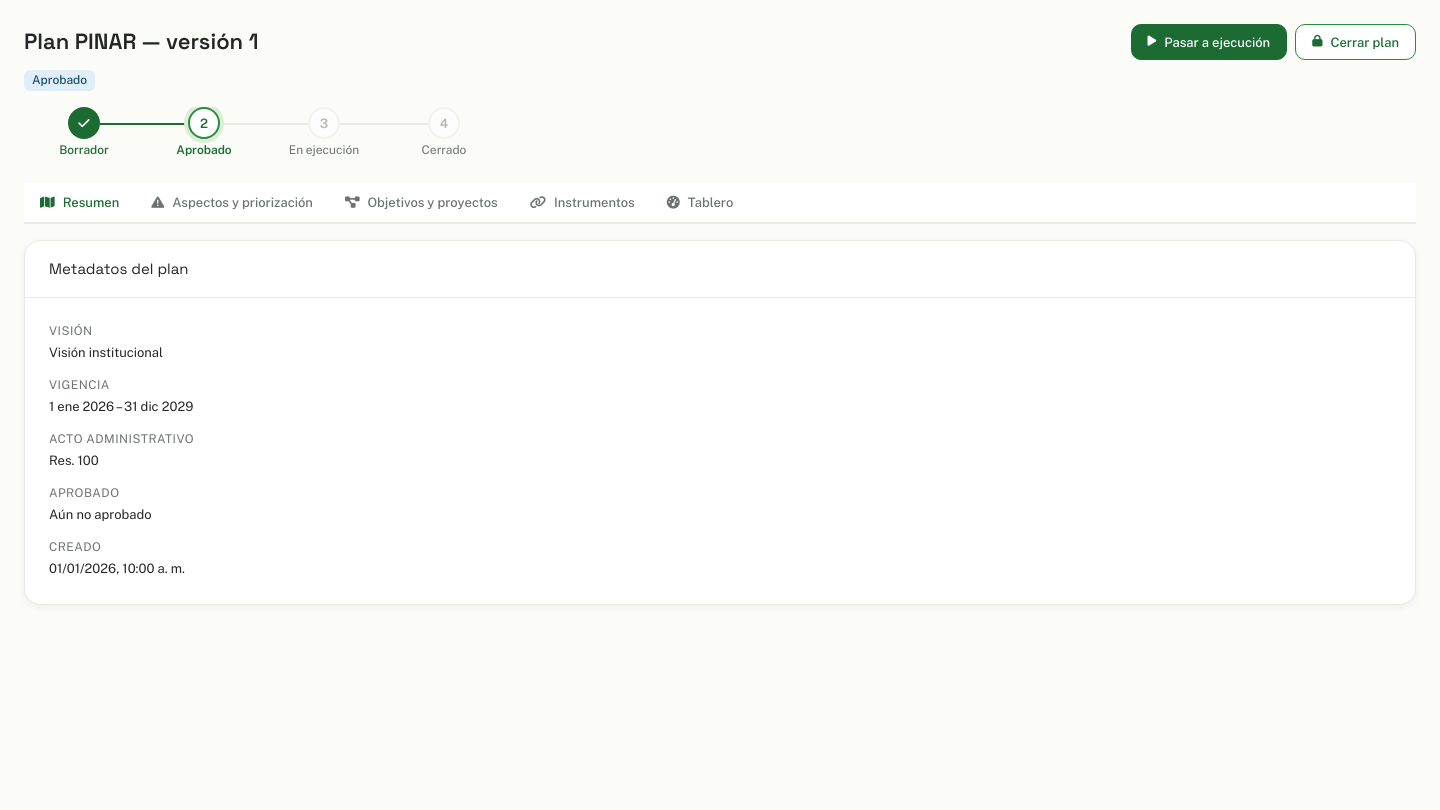
Test: /admin/pinar/[id] — aspectos y matriz de priorización › aprobado: NO ofrece editar, y explica que hay que reformular
Click the tab "Aspectos y priorización". click: [232, 203]
box: [135,183,329,224]
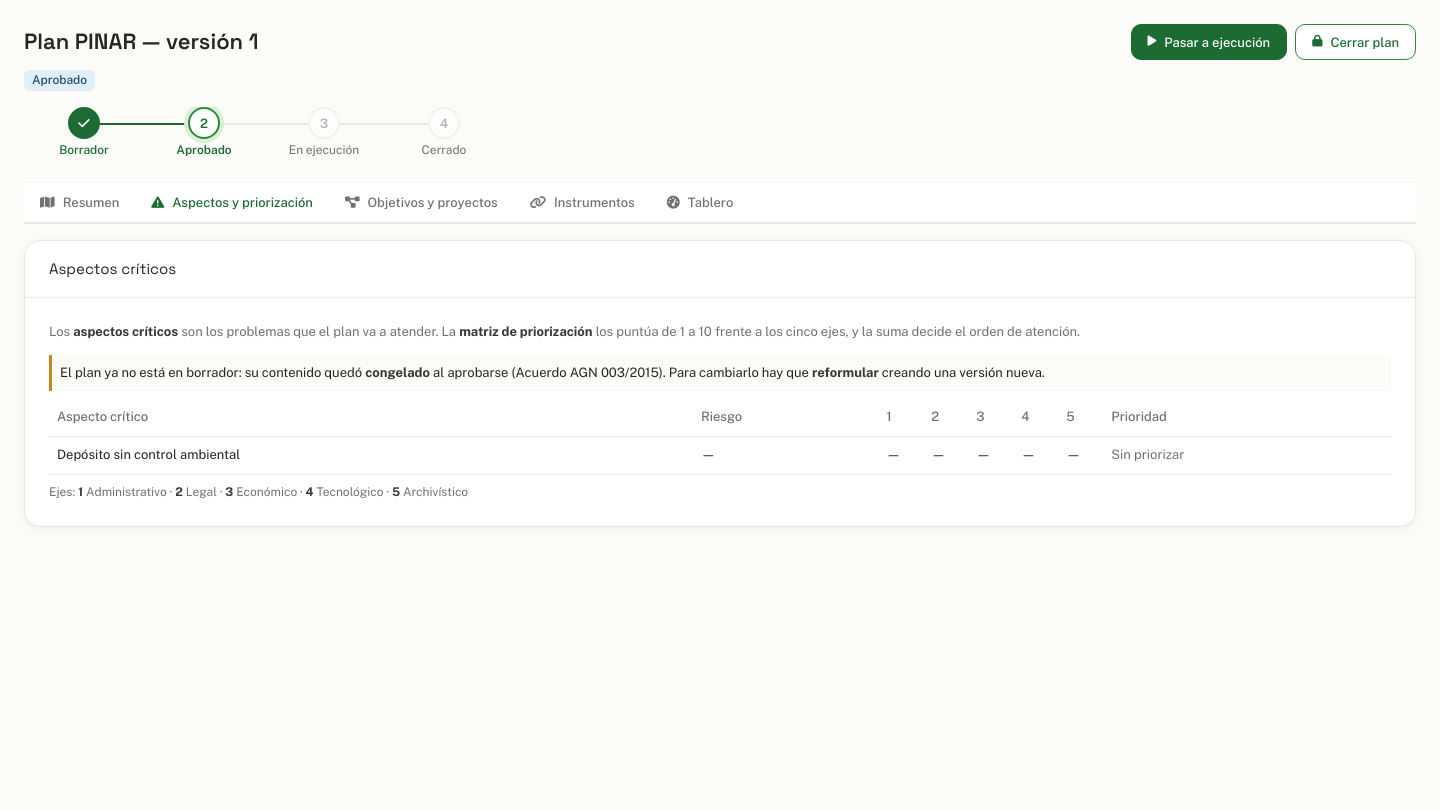
Check: the text "congelado" is shown, box [365,365,430,380]
Check: the text "reformular" is shown, box [812,365,879,380]
